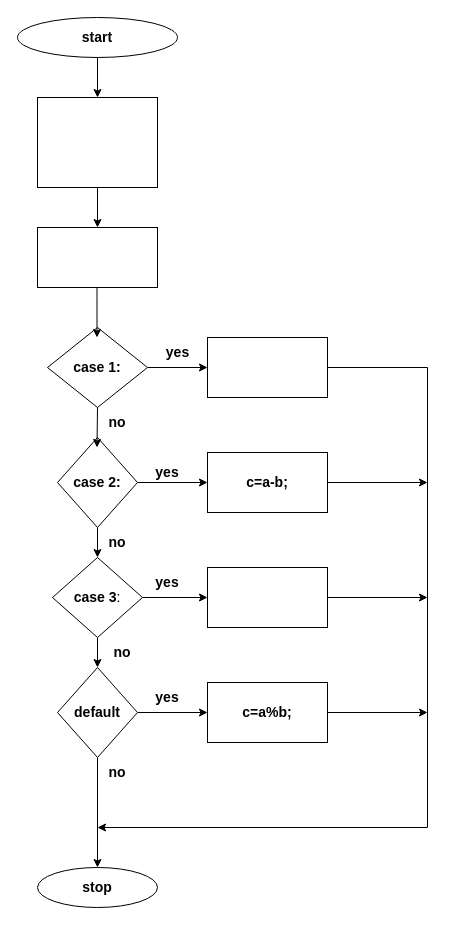
The diagram is 453 pixels wide and 925 high, and some of its shapes have lost their labels. The centre of each missing label's shape, as x and y in pixels:
c=a*b;: point (267, 597)
c=a+b;: point (267, 367)
int a,b,c; int choice; a=2; b=3;: point (97, 142)
switch(choice): point (97, 257)
